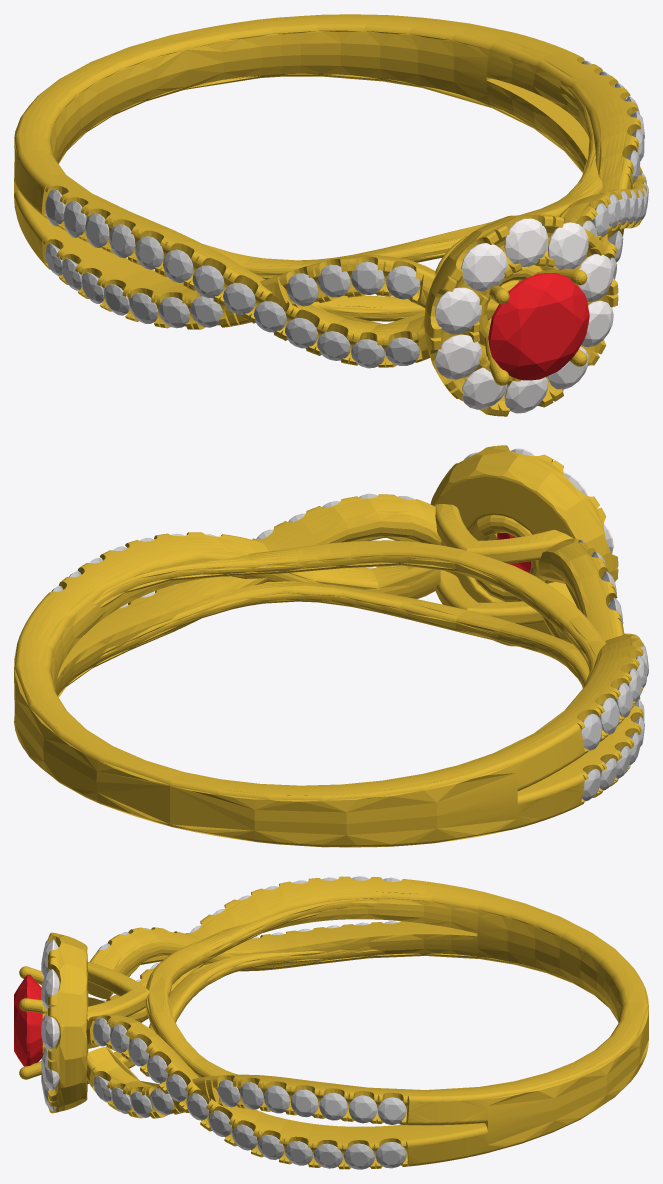
File: NewRubyRing.glb
The picture shows the model from 3 angles, top to bottom: view 1: azimuth 30°, elevation 25°; view 2: azimuth 150°, elevation 25°; view 3: azimuth 270°, elevation 25°; orthographic projection. The views are drawn at different scales.
Bounding box in the file's own units: 20.11 × 6.8 × 23.99.
